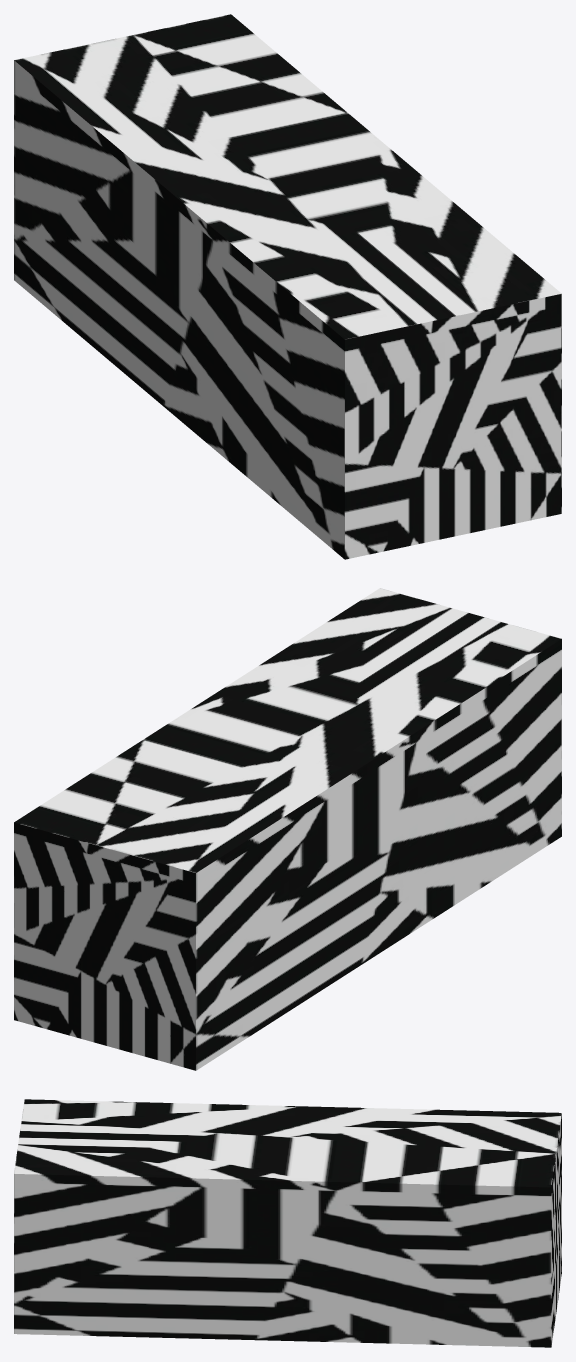
3 renders of one model, top to bottom at view 1: azimuth 30°, elevation 25°; view 2: azimuth 150°, elevation 25°; view 3: azimuth 270°, elevation 25°, orthographic. The views are drawn at different scales.
Parts seen in each view (by area): view 1: Cube.027; view 2: Cube.027; view 3: Cube.027.
Part boxes in pixels (x1,y1,x2,y2): Cube.027: (14,14,561,559); Cube.027: (14,588,561,1070); Cube.027: (14,1099,561,1347).
Size of the model in its own units: 2.36 by 2 by 6.2.
Materials: 1 (1 with a texture image).
